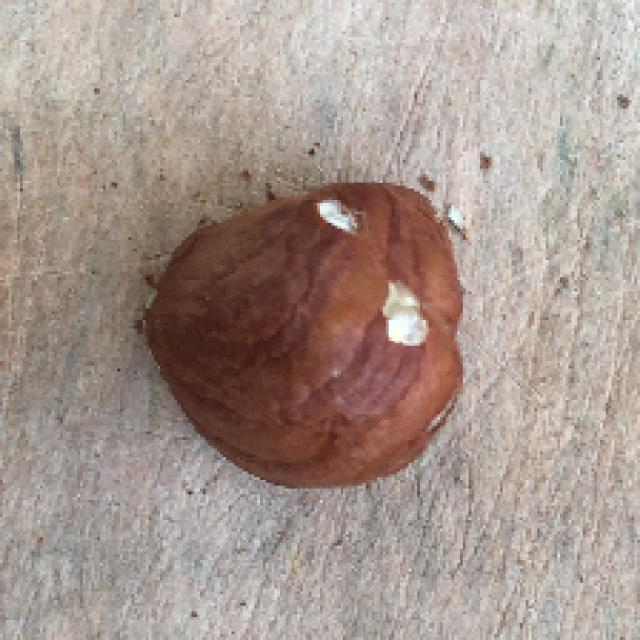hazelnut: (152, 152, 465, 480)
